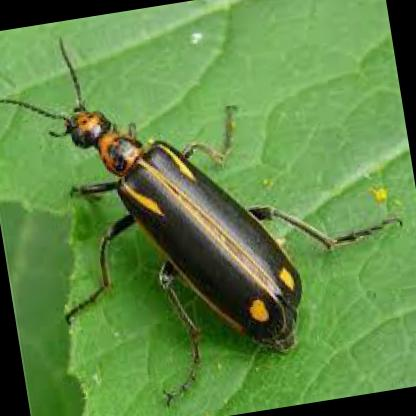blister beetle: (0, 39, 391, 354)
